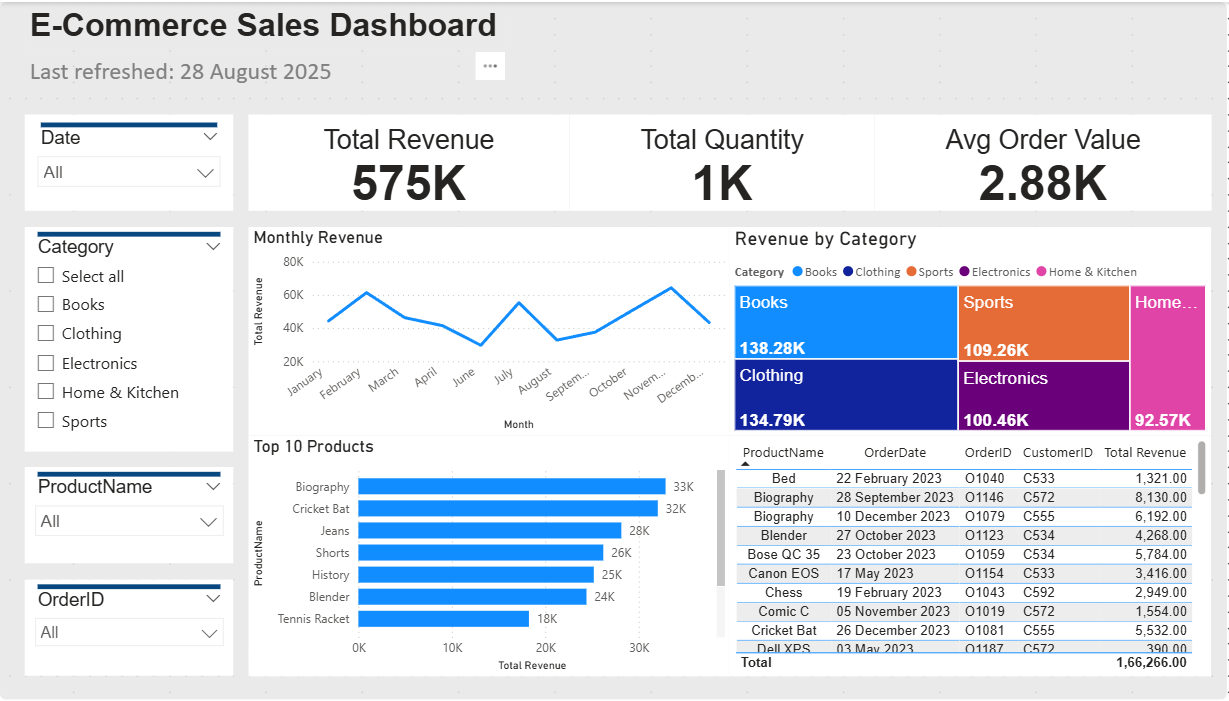

Layout of this report page (visuals, bound fields, positions):
{"tool":"powerbi","page":{"name":"E-Commerce Sales Dashboard","canvas":[1280,720],"ordinal":0},"visuals":[{"type":"shape","box":[24,0,1224,696],"z":0},{"type":"textbox","box":[48,0,480,48],"z":1000},{"type":"textbox","box":[48,48,464,48],"z":2000},{"type":"card","title":"Total Revenue","fields":{"Values":["FactOrders.Total Revenue"]},"box":[272,112,320,96],"z":3000},{"type":"card","title":"Total Quantity","fields":{"Values":["FactOrders.Total Quantity"]},"box":[592,112,304,96],"z":4000},{"type":"card","title":"Avg Order Value","fields":{"Values":["FactOrders.Avg Order Value"]},"box":[896,112,336,96],"z":5000},{"type":"lineChart","title":"Monthly Revenue","fields":{"Category":["Calendar.Date.Variation.Date Hierarchy.Year","Calendar.Date.Variation.Date Hierarchy.Month"],"Y":["FactOrders.Total Revenue"]},"box":[272,224,480,208],"z":6000},{"type":"treemap","title":" Revenue by Category","fields":{"Group":["Products.Category"],"Values":["FactOrders.Total Revenue"]},"box":[752,224,480,208],"z":7000},{"type":"barChart","title":"Top 10 Products","fields":{"Category":["Products.ProductName"],"Y":["FactOrders.Total Revenue"]},"box":[272,432,480,240],"z":8000},{"type":"tableEx","fields":{"Values":["Products.ProductName","FactOrders.OrderDate","FactOrders.OrderID","FactOrders.CustomerID","FactOrders.Total Revenue"]},"box":[752,432,480,240],"z":9000},{"type":"slicer","fields":{"Values":["Calendar.Date"]},"box":[48,112,208,96],"z":10000},{"type":"slicer","fields":{"Values":["Products.Category"]},"box":[48,224,208,224],"z":11000},{"type":"slicer","fields":{"Values":["FactOrders.ProductName"]},"box":[48,464,208,96],"z":12000},{"type":"slicer","fields":{"Values":["FactOrders.OrderID"]},"box":[48,576,208,96],"z":13000}]}

Visuals, with their boxes in screenshot pixels (x1, y1, x2, y2), scaled from the page's 1280x720 canvas onto the 1229x701 screenshot:
shape: select_region(23, 0, 1198, 678)
textbox: select_region(46, 0, 507, 47)
textbox: select_region(46, 47, 492, 93)
"Total Revenue" card: select_region(261, 109, 568, 203)
"Total Quantity" card: select_region(568, 109, 860, 203)
"Avg Order Value" card: select_region(860, 109, 1183, 203)
"Monthly Revenue" lineChart: select_region(261, 218, 722, 421)
" Revenue by Category" treemap: select_region(722, 218, 1183, 421)
"Top 10 Products" barChart: select_region(261, 421, 722, 654)
tableEx - Products.ProductName x FactOrders.OrderDate: select_region(722, 421, 1183, 654)
slicer - Calendar.Date: select_region(46, 109, 246, 203)
slicer - Products.Category: select_region(46, 218, 246, 436)
slicer - FactOrders.ProductName: select_region(46, 452, 246, 545)
slicer - FactOrders.OrderID: select_region(46, 561, 246, 654)
